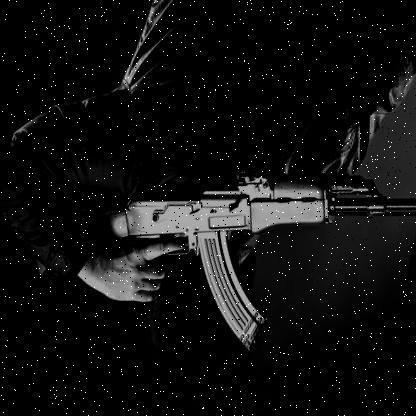rifle: (23, 71, 416, 389)
